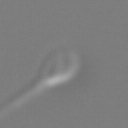normal: (1, 80, 43, 120)
